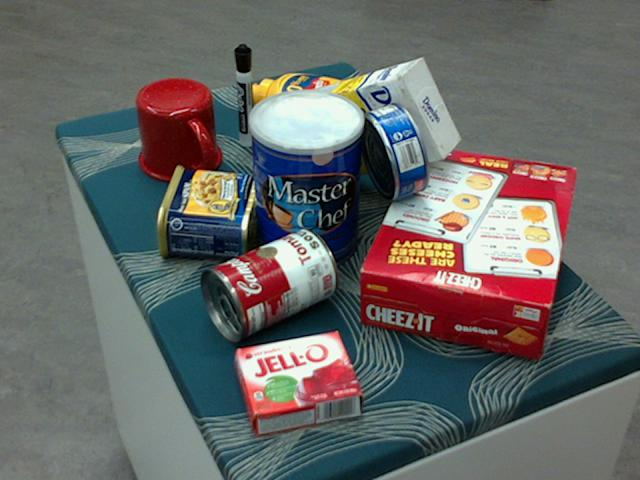cracker_box: (357, 145, 576, 358)
gelatin_box: (234, 330, 363, 434)
large_marker: (233, 43, 256, 147)
master_chef_can: (248, 90, 363, 274)
mug: (136, 78, 223, 182)
mustard_bottle: (243, 72, 411, 155)
potted_meat_can: (155, 165, 259, 258)
sugar_box: (273, 58, 459, 182)
tomato_soup_can: (198, 229, 336, 339)
tuna_fish_can: (358, 100, 429, 198)
